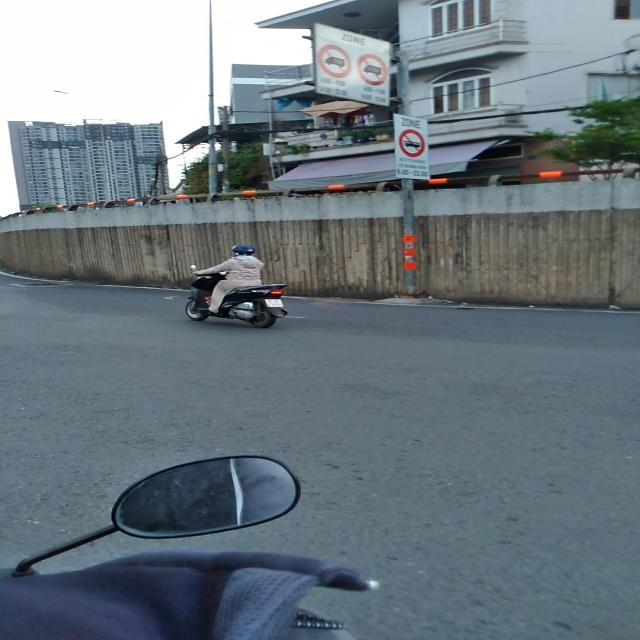bien_cam: (317, 44, 352, 79), (357, 53, 388, 86), (398, 129, 425, 158)
